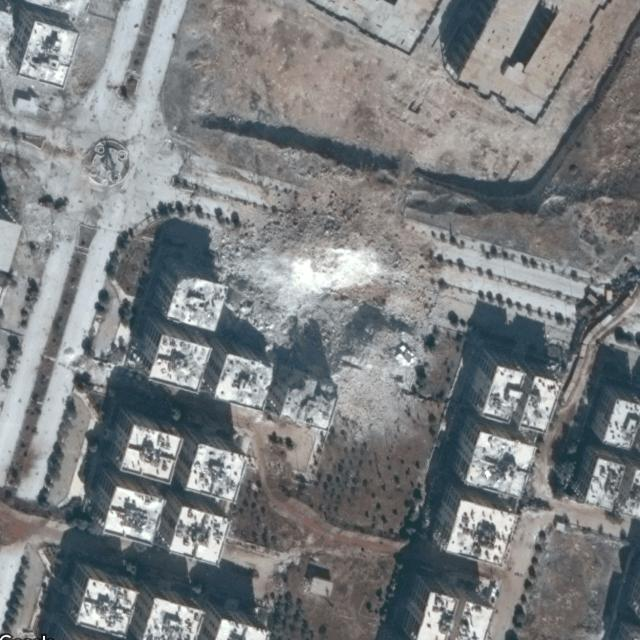damaged_building: (208, 139, 454, 442)
